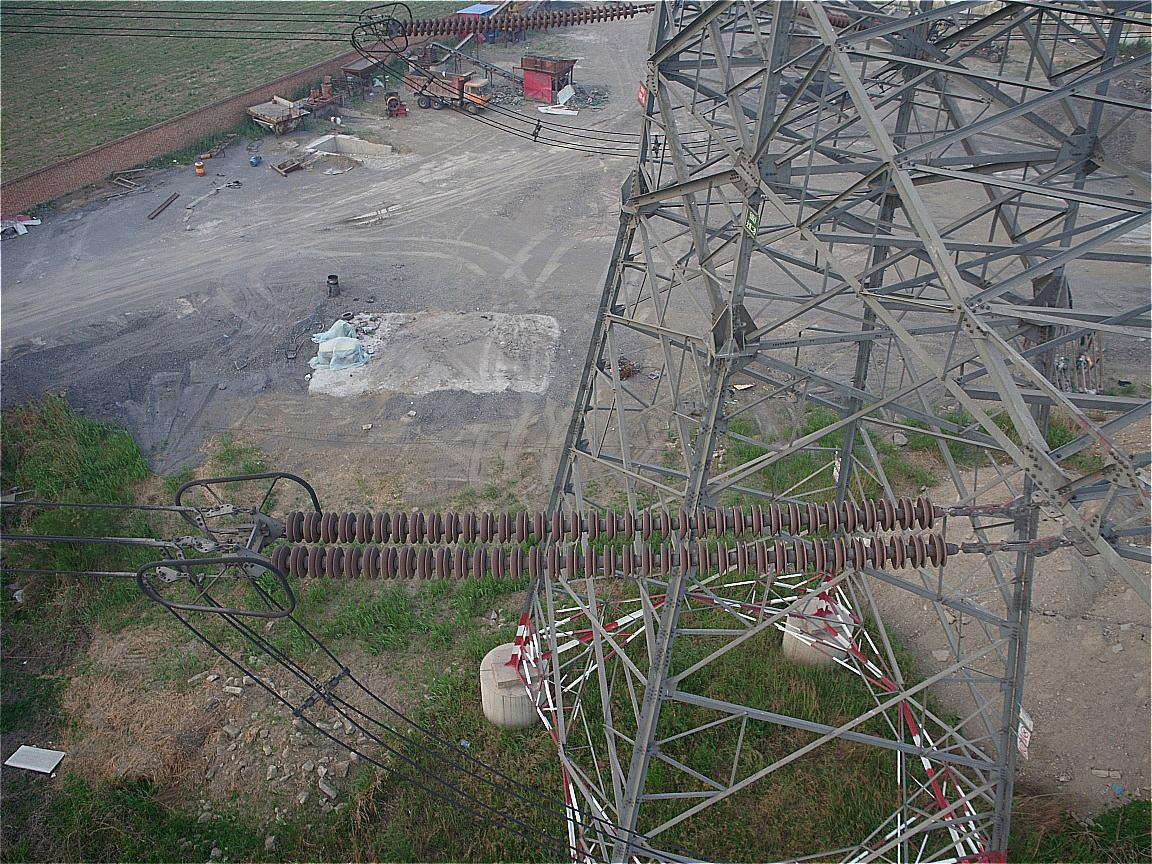insultor1: (402, 3, 636, 40)
insultor2: (271, 498, 949, 578)
